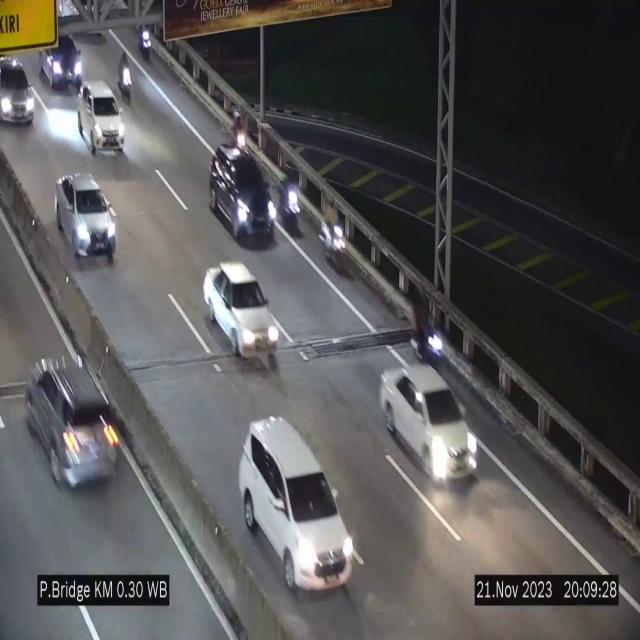Car: (239, 417, 355, 591), (15, 347, 121, 492), (379, 366, 479, 480), (206, 146, 276, 254), (202, 262, 280, 358), (56, 172, 116, 260), (34, 15, 86, 100), (0, 48, 48, 132), (76, 81, 124, 157), (412, 296, 442, 372)
Motorcycle: (324, 194, 344, 276), (282, 173, 304, 242), (117, 52, 139, 111), (228, 114, 252, 156)
